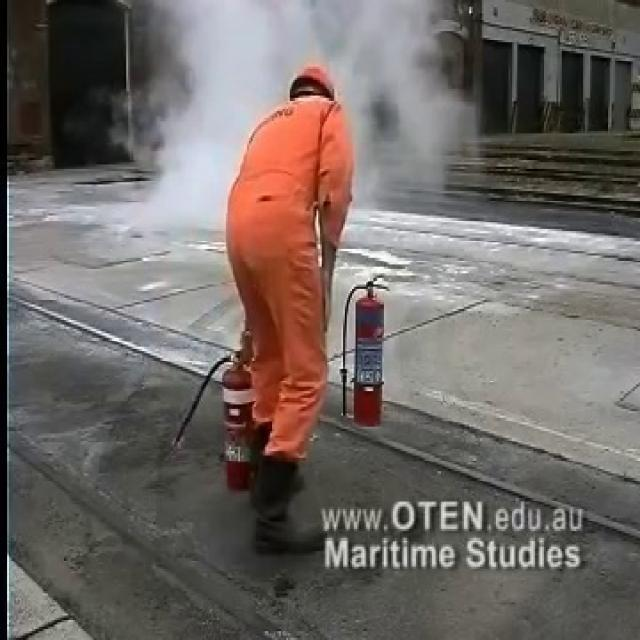Smoke: (63, 0, 492, 182)
